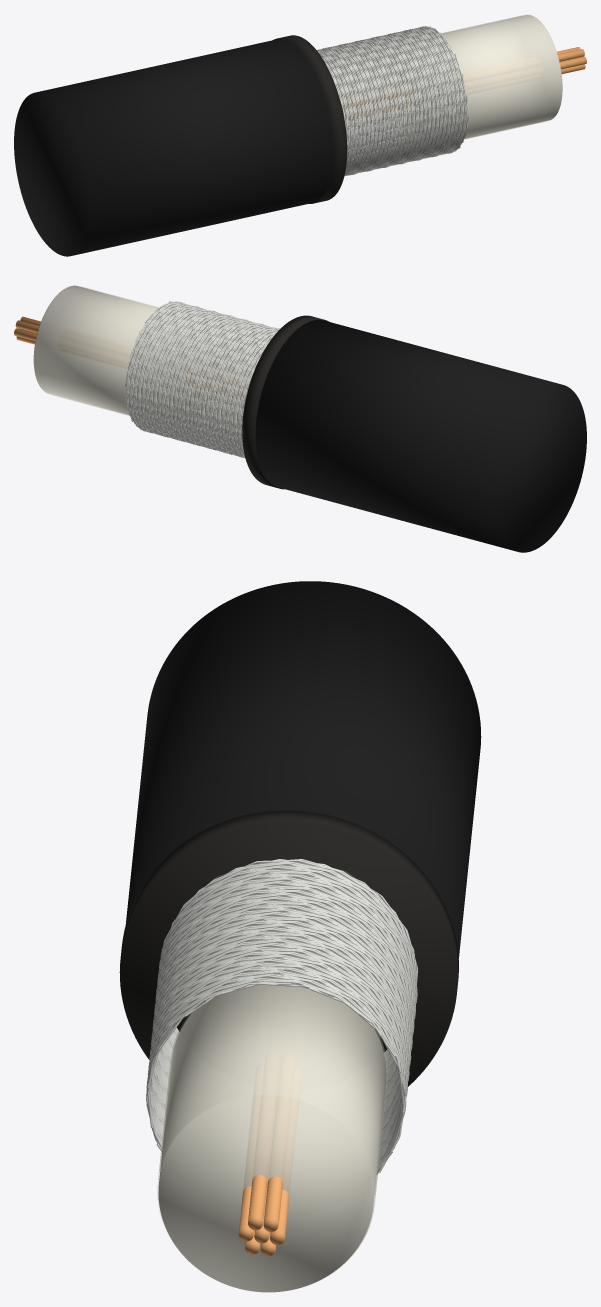
The model's file is rf-syv507.glb.
3 renders of one model, top to bottom at view 1: azimuth 30°, elevation 25°; view 2: azimuth 150°, elevation 25°; view 3: azimuth 270°, elevation 25°, orthographic. The views are drawn at different scales.
Parts seen in each view (by area): view 1: matte black pvc jacket body, gas injected foam dielectric, smooth dielectric skin, jacket cut lip, braid left hand carrier 02, braid left hand carrier 05, braid left hand carrier 15, braid left hand carrier 17, braid left hand carrier 03, braid left hand carrier 11, braid left hand carrier 09, braid left hand carrier 06 (+29 smaller); view 2: matte black pvc jacket body, gas injected foam dielectric, smooth dielectric skin, jacket cut lip, braid left hand carrier 14, braid left hand carrier 17, braid left hand carrier 15, braid left hand carrier 11, braid left hand carrier 12, braid left hand carrier 08, braid left hand carrier 05, braid left hand carrier 09 (+28 smaller); view 3: matte black pvc jacket body, gas injected foam dielectric, jacket cut lip, smooth dielectric skin, braid left hand carrier 03, braid left hand carrier 18, braid left hand carrier 06, braid left hand carrier 15, braid left hand carrier 09, braid left hand carrier 12, braid left hand carrier 17, braid left hand carrier 02 (+28 smaller).
Part boxes in pixels (x1=…): matte black pvc jacket body: x1=14, y1=39, x2=333, y2=256; gas injected foam dielectric: x1=384, y1=15, x2=562, y2=144; smooth dielectric skin: x1=427, y1=14, x2=561, y2=139; jacket cut lip: x1=273, y1=35, x2=347, y2=203; braid left hand carrier 02: x1=323, y1=27, x2=458, y2=174; braid left hand carrier 05: x1=328, y1=28, x2=462, y2=175; braid left hand carrier 15: x1=320, y1=28, x2=451, y2=173; braid left hand carrier 17: x1=318, y1=27, x2=453, y2=172; braid left hand carrier 03: x1=325, y1=26, x2=459, y2=174; braid left hand carrier 11: x1=318, y1=29, x2=465, y2=174; braid left hand carrier 09: x1=322, y1=30, x2=467, y2=174; braid left hand carrier 06: x1=330, y1=31, x2=463, y2=175; matte black pvc jacket body: x1=255, y1=320, x2=586, y2=552; gas injected foam dielectric: x1=33, y1=285, x2=218, y2=422; smooth dielectric skin: x1=34, y1=285, x2=166, y2=415; jacket cut lip: x1=242, y1=315, x2=329, y2=489; braid left hand carrier 14: x1=131, y1=304, x2=277, y2=457; braid left hand carrier 17: x1=127, y1=303, x2=279, y2=455; braid left hand carrier 15: x1=129, y1=304, x2=277, y2=456; braid left hand carrier 11: x1=135, y1=306, x2=273, y2=456; braid left hand carrier 12: x1=133, y1=305, x2=274, y2=458; braid left hand carrier 08: x1=139, y1=307, x2=273, y2=456; braid left hand carrier 05: x1=143, y1=302, x2=277, y2=454; braid left hand carrier 09: x1=138, y1=306, x2=270, y2=456; matte black pvc jacket body: x1=125, y1=581, x2=481, y2=958; gas injected foam dielectric: x1=158, y1=985, x2=386, y2=1292; jacket cut lip: x1=119, y1=810, x2=458, y2=1086; smooth dielectric skin: x1=157, y1=985, x2=387, y2=1292; braid left hand carrier 03: x1=147, y1=862, x2=417, y2=1128; braid left hand carrier 18: x1=149, y1=859, x2=417, y2=1149; braid left hand carrier 06: x1=146, y1=866, x2=417, y2=1142; braid left hand carrier 15: x1=151, y1=878, x2=417, y2=1142; braid left hand carrier 09: x1=146, y1=871, x2=415, y2=1157; braid left hand carrier 12: x1=148, y1=875, x2=415, y2=1165; braid left hand carrier 17: x1=150, y1=859, x2=416, y2=1172; braid left hand carrier 02: x1=148, y1=861, x2=417, y2=1095.
Size of the model in its own units: 6.54 by 1.84 by 1.97.
